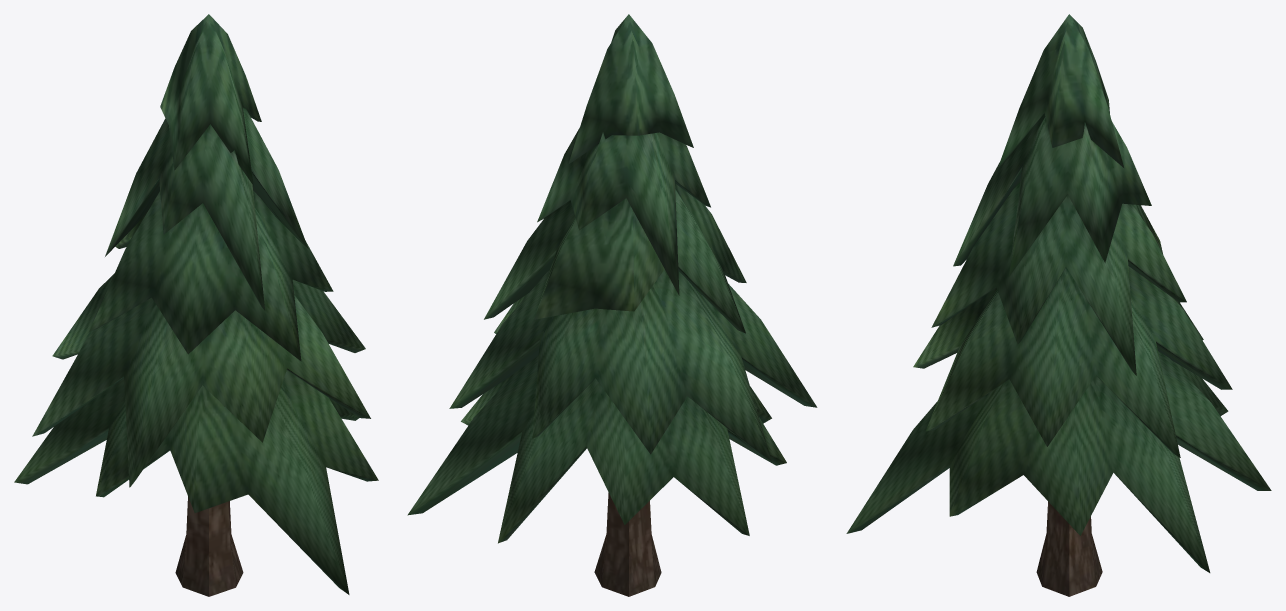
The model's file is pine.glb.
3 renders of one model, left to right at view 1: azimuth 30°, elevation 25°; view 2: azimuth 150°, elevation 25°; view 3: azimuth 270°, elevation 25°, orthographic.
Visible parts, largest first — view 1: root_mesh; view 2: root_mesh; view 3: root_mesh.
Part boxes in pixels (x1=…): root_mesh: x1=14, y1=14, x2=378, y2=596; root_mesh: x1=407, y1=14, x2=817, y2=596; root_mesh: x1=846, y1=14, x2=1271, y2=596.
Bounding box in the file's own units: 0.8991 × 1.51 × 1.03.
1 material, 1 textured.
